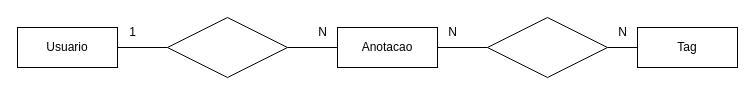
Image size: 755x95. Some labels were removed from this diagram. Each missing label, with the centre of its shape:
Faz: pixel 227 47
Possui: pixel 547 47
